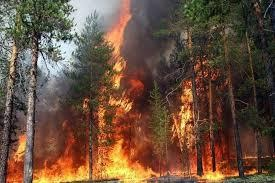fire: (37, 9, 226, 181)
